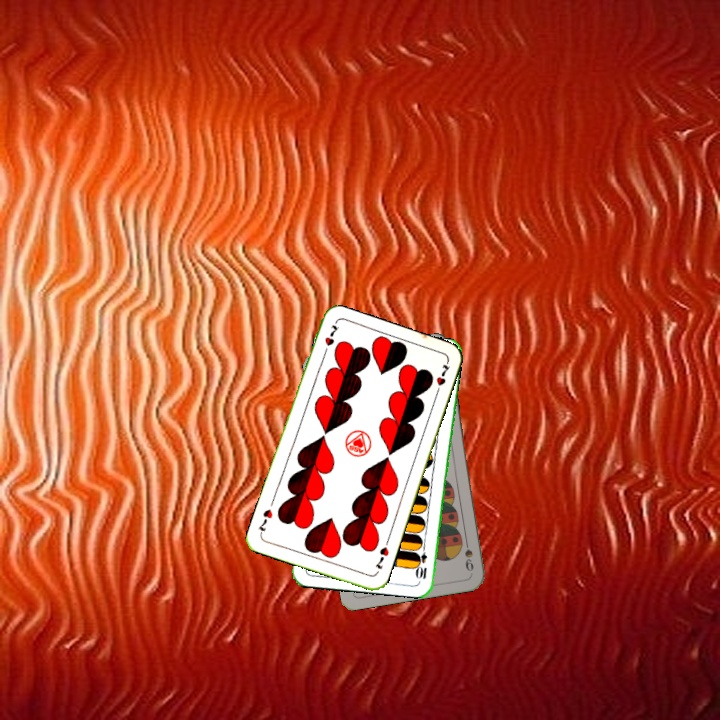E10: (415, 541, 429, 582)
H7: (319, 321, 341, 359), (371, 542, 391, 572)
S9: (461, 534, 476, 574)
